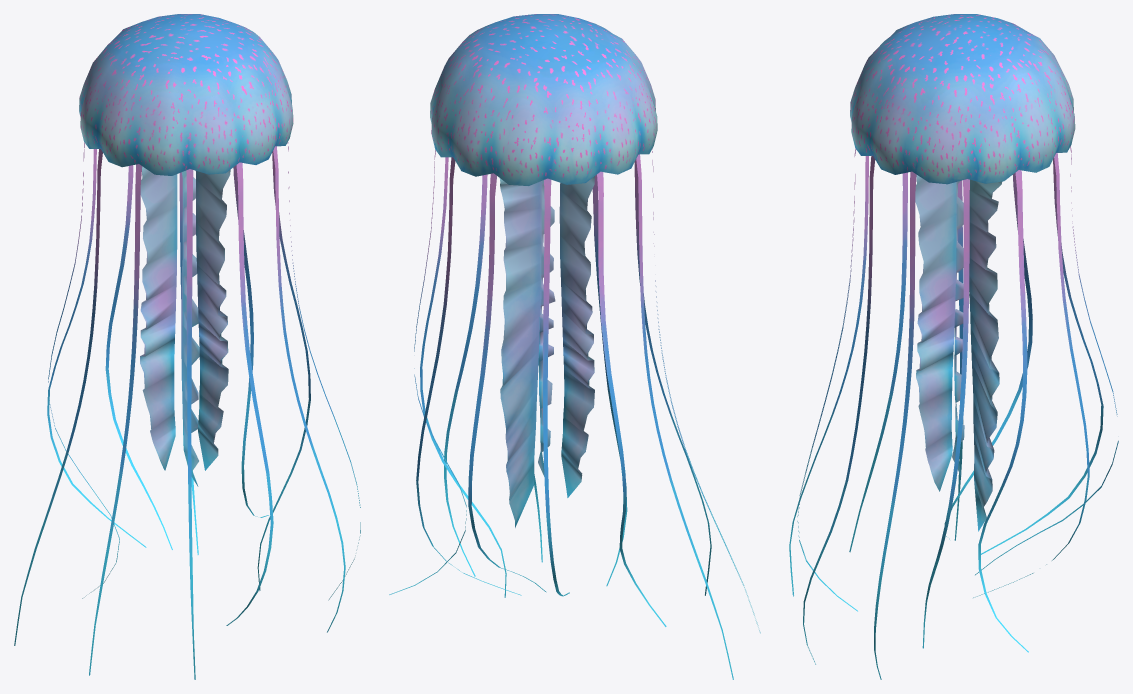
The model's file is jellyfish.fbx.
The picture shows the model from 3 angles, left to right: view 1: azimuth 30°, elevation 25°; view 2: azimuth 150°, elevation 25°; view 3: azimuth 270°, elevation 25°; orthographic projection. The views are drawn at different scales.
Parts seen in each view (by area): view 1: node_id5; view 2: node_id5; view 3: node_id5.
Part boxes in pixels (x1,y1,x2,y2): node_id5: (14,14,360,679); node_id5: (389,14,760,679); node_id5: (789,14,1118,679).
Size of the model in its own units: 0.2881 by 0.512 by 0.2528.
Materials: 1 (1 with a texture image).
